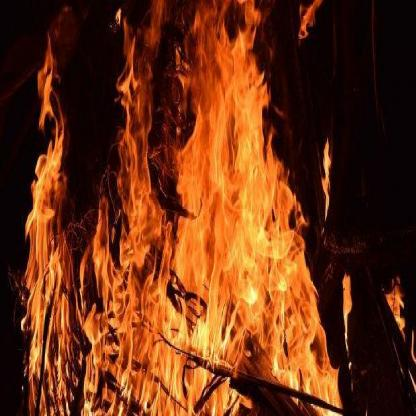fire: (2, 1, 413, 412)
